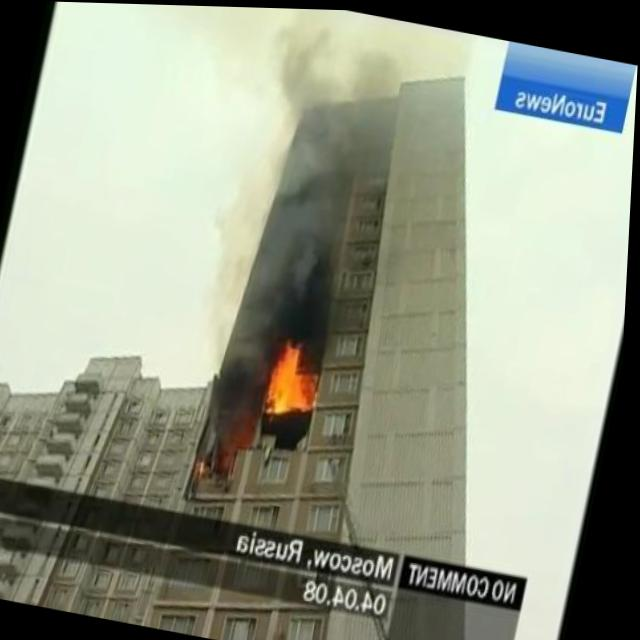fire: (260, 332, 331, 420)
